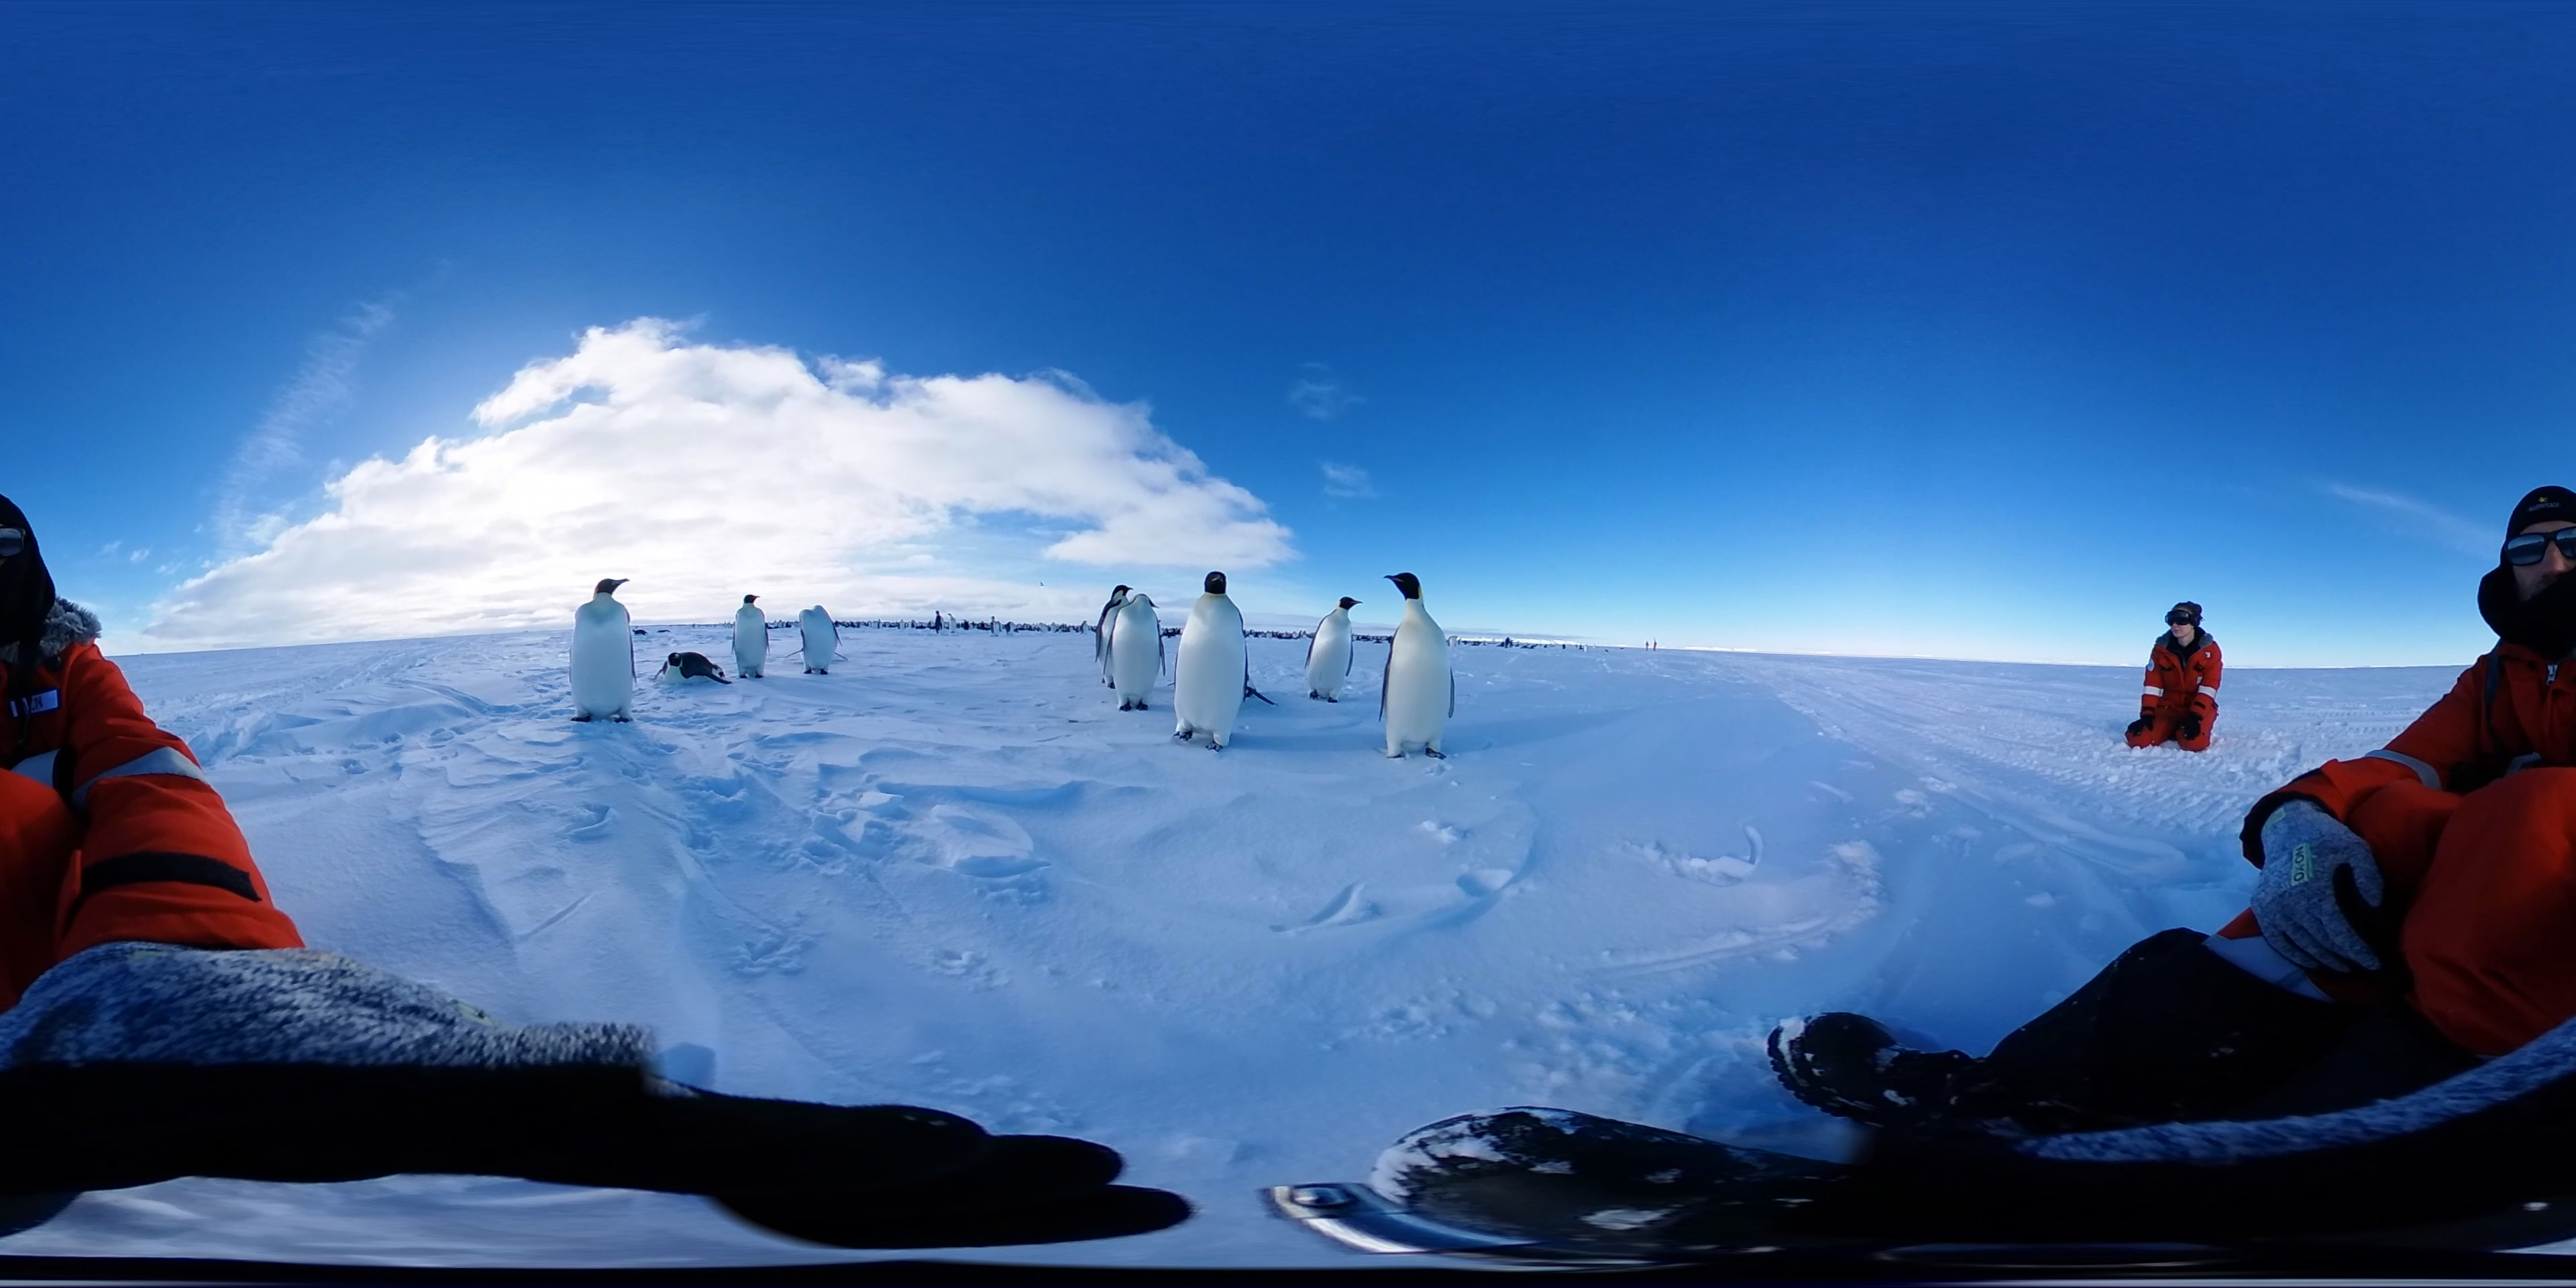adult_standing_penguin: (1372, 570, 1464, 766), (1171, 567, 1252, 754), (568, 577, 641, 726), (1107, 591, 1168, 710), (1306, 590, 1360, 705), (1092, 585, 1142, 692), (792, 605, 844, 680), (733, 595, 770, 680)
adult_toboggan_penguin: (651, 651, 733, 688), (629, 628, 649, 637)
researcher: (2183, 480, 2576, 963), (0, 478, 320, 1040), (2124, 596, 2231, 752)
